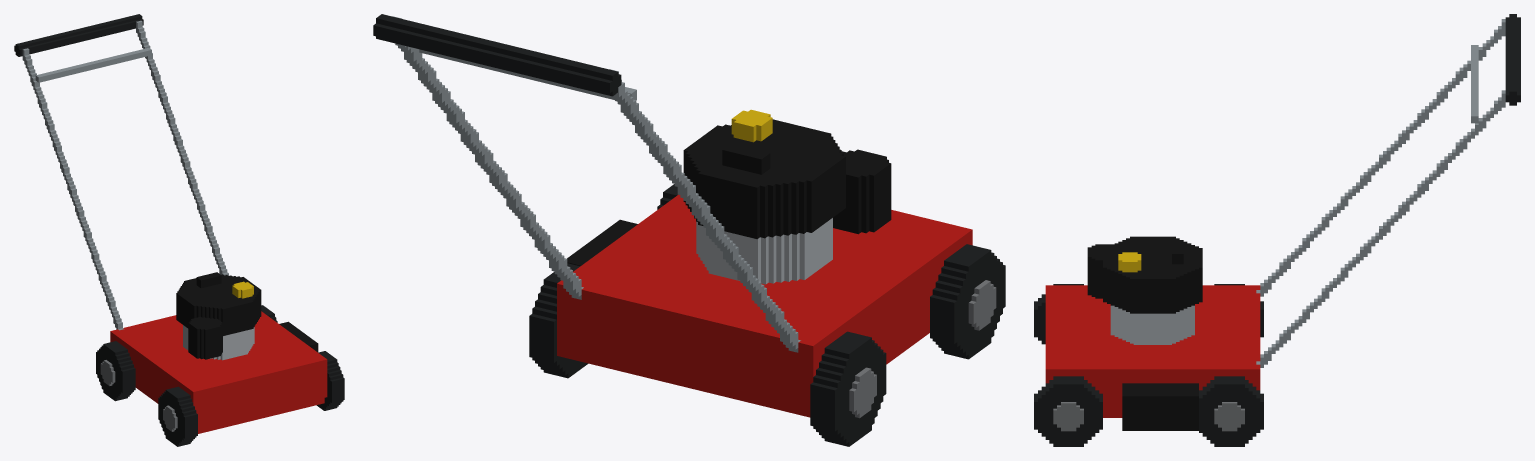
Rendered from lawnmower.glb.
3 renders of one model, left to right at view 1: azimuth 30°, elevation 25°; view 2: azimuth 150°, elevation 25°; view 3: azimuth 270°, elevation 25°, orthographic. The views are drawn at different scales.
Parts seen in each view (by area): view 1: lawnmower:compound; view 2: lawnmower:compound; view 3: lawnmower:compound.
Part boxes in pixels (<box>): lawnmower:compound: <box>14,14,344,446</box>; lawnmower:compound: <box>373,14,1005,446</box>; lawnmower:compound: <box>1034,14,1520,446</box>.
Bounding box in the file's own units: 0.66 × 0.99 × 1.27.
